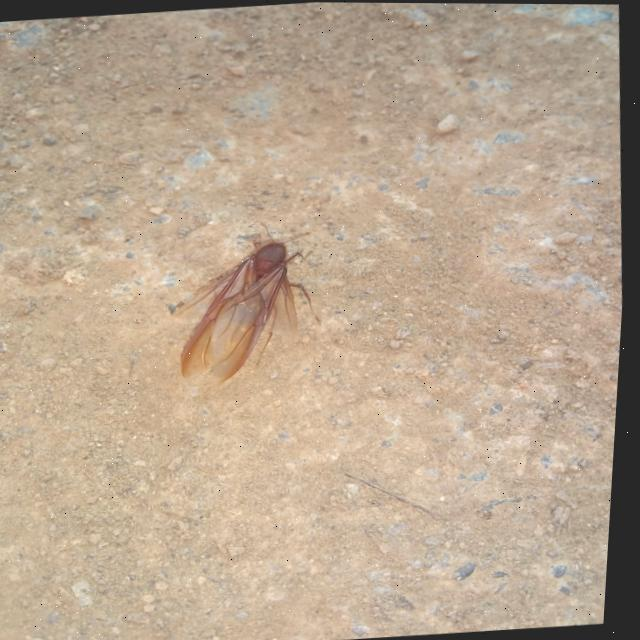Alive-Male-Alate: (164, 218, 334, 391)
